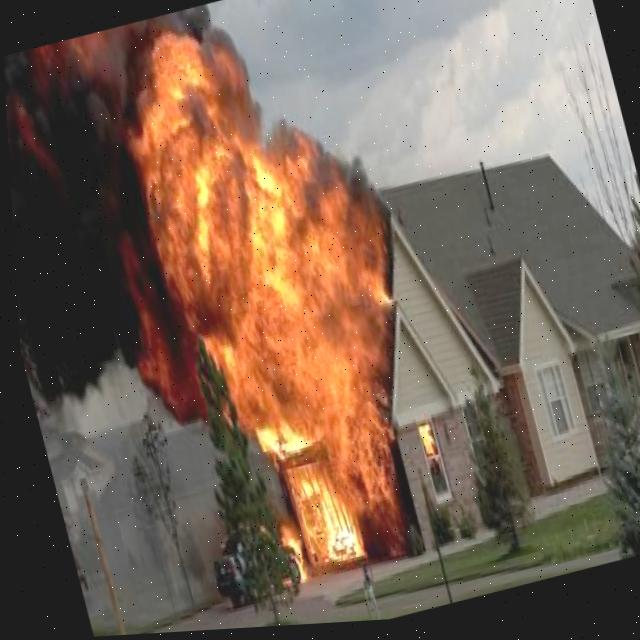fire: (129, 40, 395, 555), (272, 447, 357, 575)
smoke: (3, 8, 210, 422)
